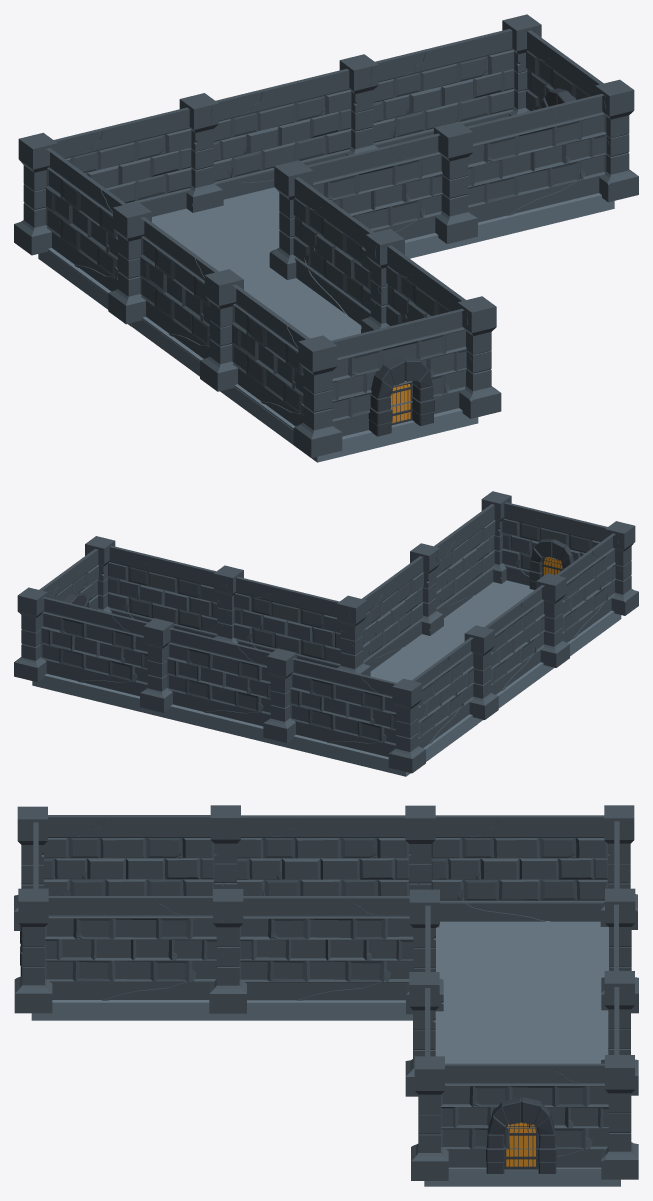
The model's file is Room2L.obj.
3 views of the same model, one above another, from view 1: azimuth 30°, elevation 25°; view 2: azimuth 150°, elevation 25°; view 3: azimuth 270°, elevation 25° (orthographic). The views are drawn at different scales.
Parts seen in each view (by area): view 1: Pillar+Wall.023, Pillar+Wall.018, Pillar+Wall.027, Cube.263, Pillar+Wall.026, Pillar+Wall.025, Pillar+Wall.024, Arch.018, door.017; view 2: Pillar+Wall.023, Pillar+Wall.018, Pillar+Wall.027, Cube.263, Pillar+Wall.026, Pillar+Wall.025, Pillar+Wall.024, Arch.018; view 3: Pillar+Wall.018, Pillar+Wall.026, Cube.263, Pillar+Wall.024, Pillar+Wall.023, Pillar+Wall.027, Arch.017, Pillar+Wall.025, door.016.
Part boxes in pixels (box(x1,y1,x2,y2)): Pillar+Wall.023: box(54, 14, 541, 216); Pillar+Wall.018: box(14, 132, 309, 430); Pillar+Wall.027: box(269, 94, 606, 279); Cube.263: box(38, 187, 614, 462); Pillar+Wall.026: box(293, 177, 501, 418); Pillar+Wall.025: box(293, 309, 466, 457); Pillar+Wall.024: box(526, 30, 638, 202); Arch.018: box(368, 356, 434, 436); door.017: box(390, 381, 412, 425); Pillar+Wall.023: box(14, 587, 396, 756); Pillar+Wall.018: box(388, 533, 615, 773); Pillar+Wall.027: box(108, 545, 370, 676); Cube.263: box(32, 580, 621, 776); Pillar+Wall.026: box(362, 491, 511, 671); Pillar+Wall.025: box(502, 502, 638, 615); Pillar+Wall.024: box(39, 536, 115, 613); Arch.018: box(529, 539, 573, 589); Pillar+Wall.018: box(44, 805, 637, 929); Pillar+Wall.026: box(14, 888, 413, 1013); Cube.263: box(31, 921, 620, 1186); Pillar+Wall.024: box(411, 1056, 608, 1180); Pillar+Wall.023: box(601, 821, 638, 1179); Pillar+Wall.027: box(405, 889, 443, 1096); Arch.017: box(486, 1097, 556, 1173); Pillar+Wall.025: box(14, 806, 47, 930); door.016: box(504, 1122, 538, 1169).
Bounding box in the file's own units: 16.07 × 3.51 × 15.9.
Materials: 1 (1 with a texture image).
